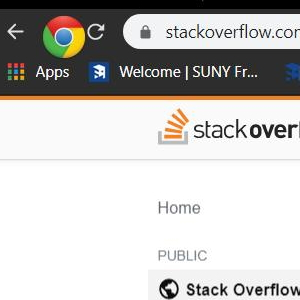chrome: (41, 14, 86, 60)
